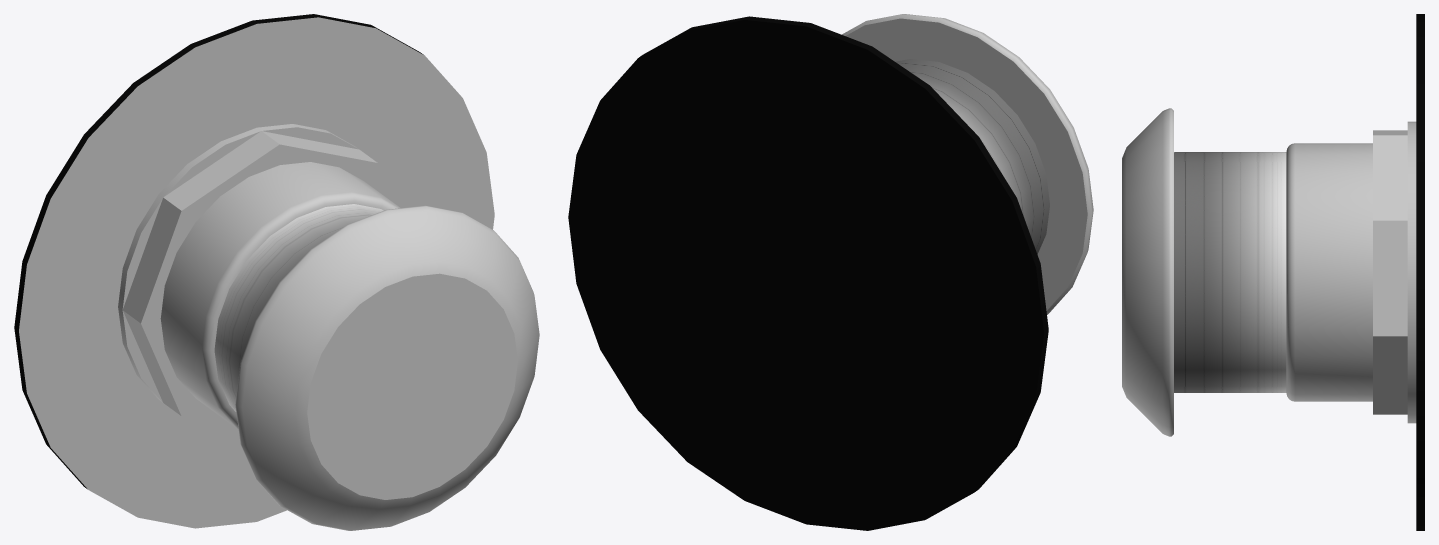
File: estop_button_circle.dae
3 renders of one model, left to right at view 1: azimuth 30°, elevation 25°; view 2: azimuth 150°, elevation 25°; view 3: azimuth 270°, elevation 25°, orthographic. The views are drawn at different scales.
Visible parts, largest first — view 1: placard (×2), estop_button (×3), housing_nut, estop_housing; view 2: placard, estop_button (×2); view 3: estop_button (×2), estop_housing, housing_nut, placard.
Part boxes in pixels (<box>): placard (×2): <box>14,14,494,528</box>; estop_button (×3): <box>214,204,539,530</box>; housing_nut: <box>118,124,395,426</box>; estop_housing: <box>160,162,400,429</box>; placard: <box>568,16,1048,530</box>; estop_button (×2): <box>842,14,1093,314</box>; estop_button (×2): <box>1122,108,1286,436</box>; estop_housing: <box>1286,143,1372,401</box>; housing_nut: <box>1373,121,1416,423</box>; placard: <box>1416,14,1424,530</box>.
Size of the model in its own units: 2.36 by 1.38 by 2.36.
